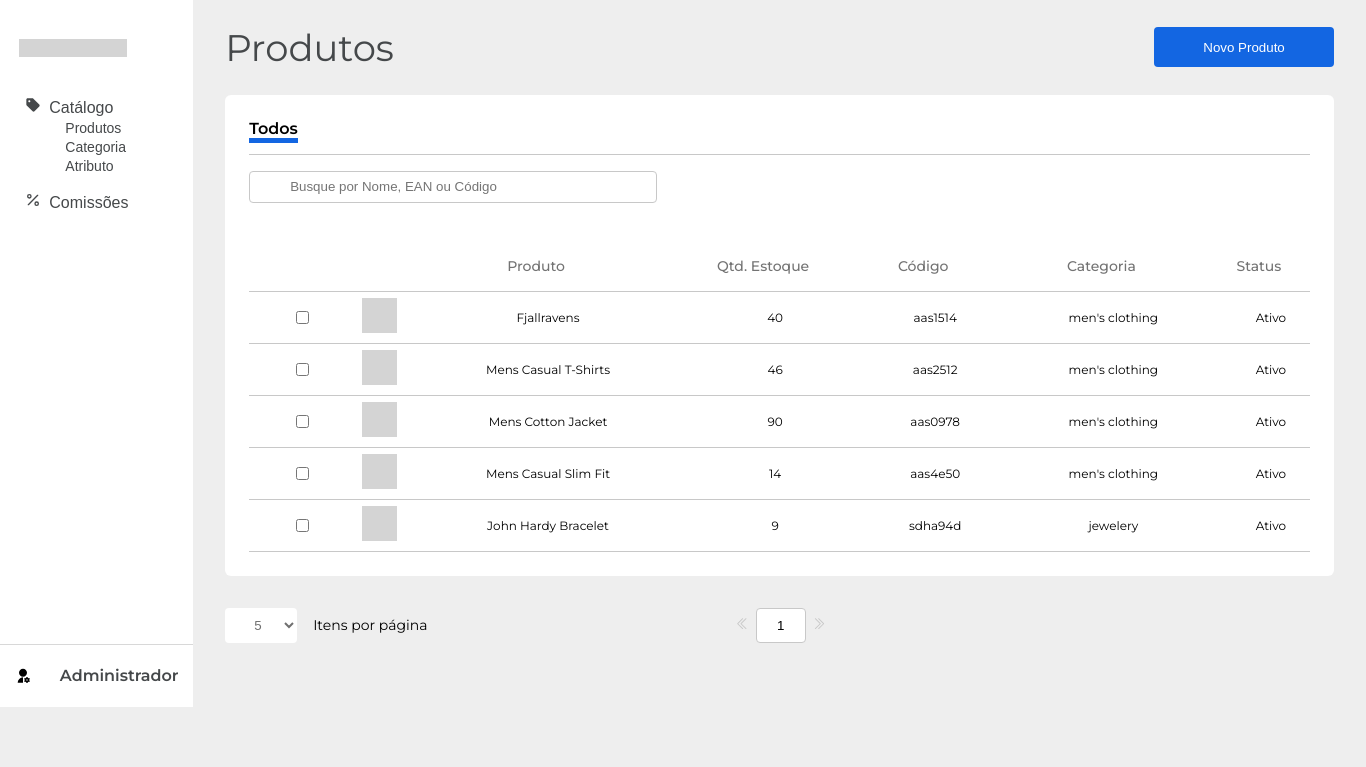
Test: Home › Testa quantidade de linhas apos seleção
The width and height of the screenshot is (1366, 767).
Select "10" in the dropdown: (261, 625) [225,608,297,643]
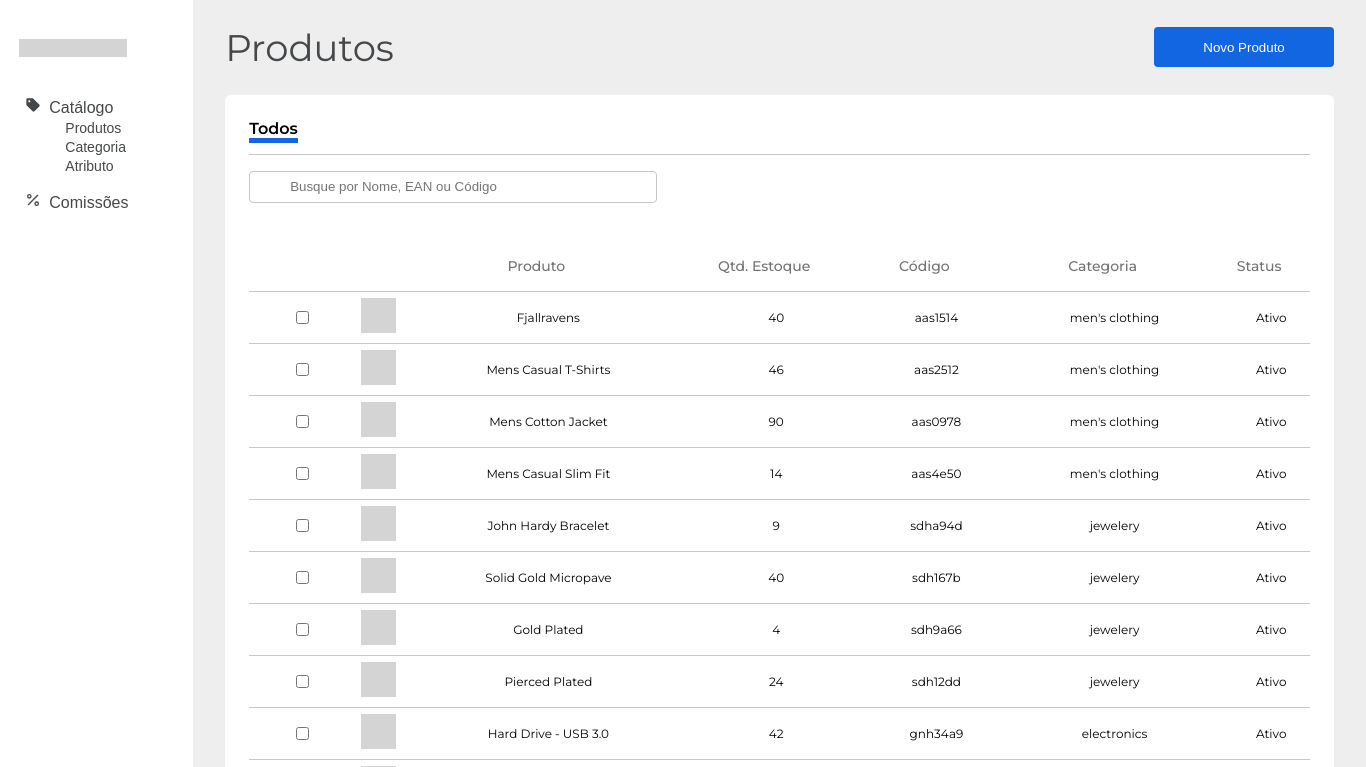
Expected: the number of checkboxes is 10
